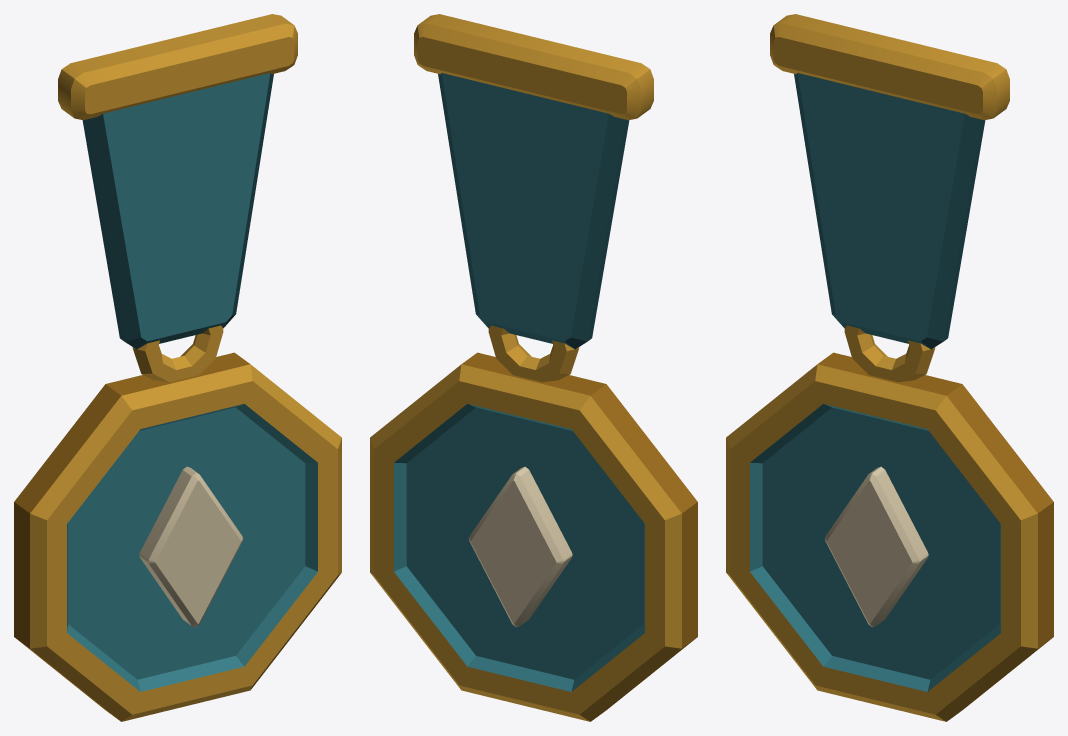
The model's file is Medal_29.glb.
The picture shows the model from 3 angles, left to right: view 1: azimuth 30°, elevation 25°; view 2: azimuth 150°, elevation 25°; view 3: azimuth 330°, elevation 25°; orthographic projection.
Parts seen in each view (by area): view 1: Medal_29; view 2: Medal_29; view 3: Medal_29.
Boxes of the visible parts, bbox=[...] form: Medal_29: bbox=[14, 14, 341, 721]; Medal_29: bbox=[370, 14, 697, 721]; Medal_29: bbox=[726, 14, 1053, 721].
Bounding box in the file's own units: 1.24 × 2.49 × 0.28.
